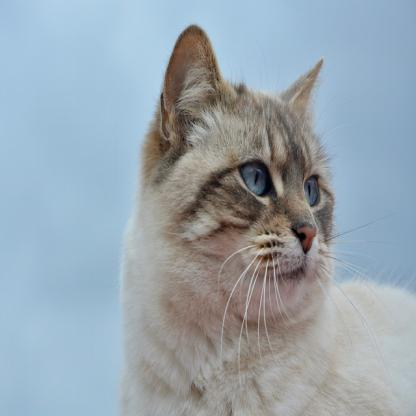cat: (125, 23, 415, 415)
